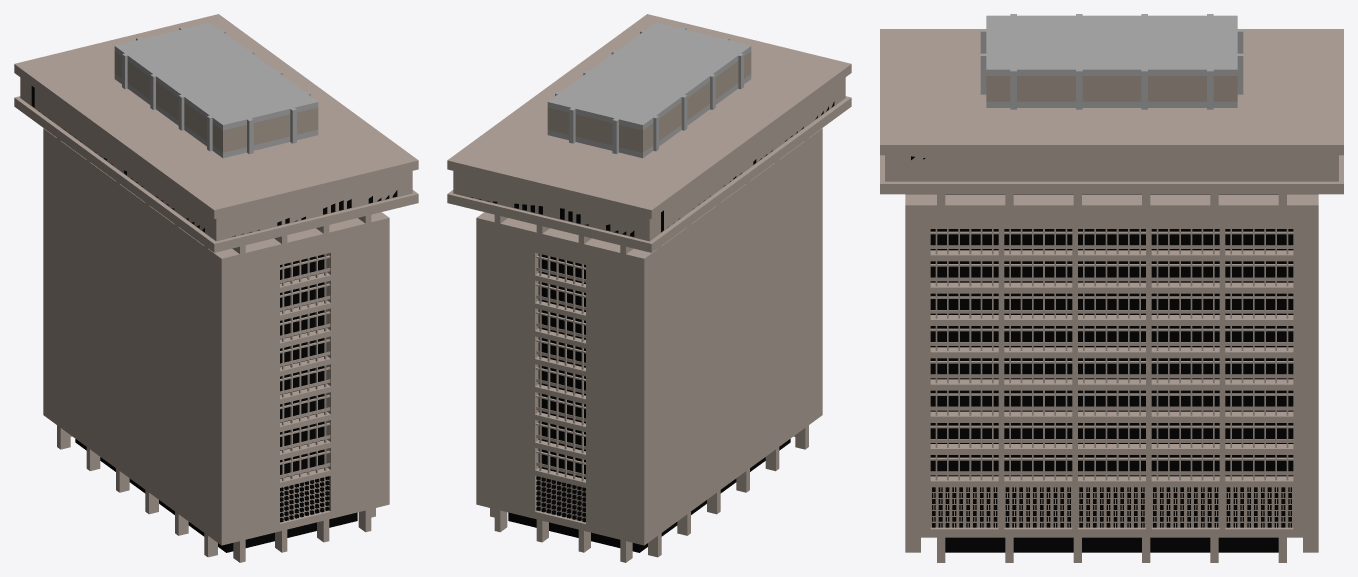
Rendered from Banco_Central 2.fbx.
3 views of the same model, side by side, from view 1: azimuth 30°, elevation 25°; view 2: azimuth 150°, elevation 25°; view 3: azimuth 270°, elevation 25° (orthographic). The views are drawn at different scales.
Visible parts, largest first — view 1: Cube, Cube.003, Cube.005, Cube.010, Cube.006, Cube.011; view 2: Cube, Cube.003, Cube.005, Cube.015, Cube.006, Cube.011; view 3: Cube, Cube.003, Cube.005, Cube.011, Cube.006, Cube.012, Cube.008, Cube.001, Cube.009, Cube.007, Cube.021, Cube.025 (+39 smaller).
Boxes of the visible parts, left/top/right/bottom form: Cube: left=43, top=128, right=389, bottom=545; Cube.003: left=14, top=14, right=418, bottom=252; Cube.005: left=114, top=22, right=318, bottom=158; Cube.010: left=280, top=254, right=330, bottom=481; Cube.006: left=57, top=425, right=375, bottom=562; Cube.011: left=280, top=476, right=329, bottom=522; Cube: left=476, top=128, right=822, bottom=545; Cube.003: left=447, top=14, right=851, bottom=252; Cube.005: left=547, top=22, right=751, bottom=158; Cube.015: left=535, top=254, right=585, bottom=481; Cube.006: left=490, top=425, right=808, bottom=562; Cube.011: left=536, top=476, right=585, bottom=522; Cube: left=905, top=194, right=1318, bottom=537; Cube.003: left=880, top=29, right=1343, bottom=194; Cube.005: left=980, top=14, right=1243, bottom=109; Cube.011: left=932, top=487, right=1291, bottom=527; Cube.006: left=905, top=537, right=1318, bottom=562; Cube.012: left=930, top=229, right=998, bottom=480; Cube.008: left=1151, top=229, right=1219, bottom=480; Cube.001: left=1004, top=229, right=1072, bottom=480; Cube.009: left=1225, top=229, right=1293, bottom=480; Cube.007: left=1078, top=229, right=1145, bottom=480; Cube.021: left=1151, top=261, right=1219, bottom=282; Cube.025: left=930, top=261, right=998, bottom=282.
Bounding box in the file's own units: 974 × 1856 × 1650.
